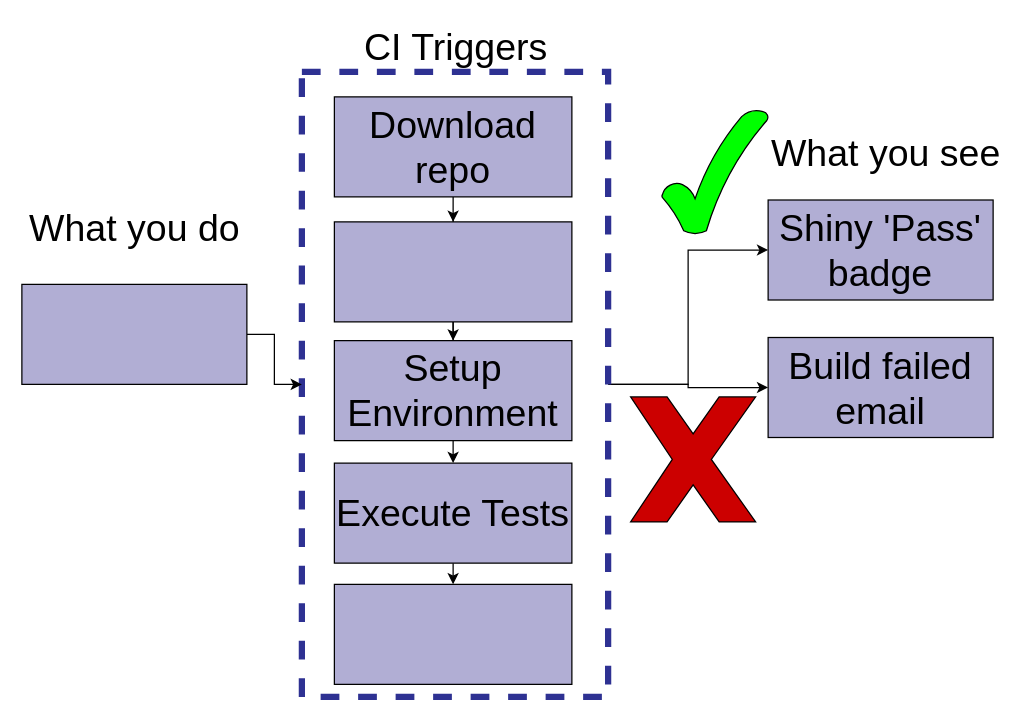
This 1033x721 diagram has some shape labels left out. Here are the shapes that lost their labels. From the top down, the centre of each, then its label:
At pixel 452 271: "Read .yml file".
At pixel 134 333: "Push to GitHub".
At pixel 452 633: "Cleanup".
